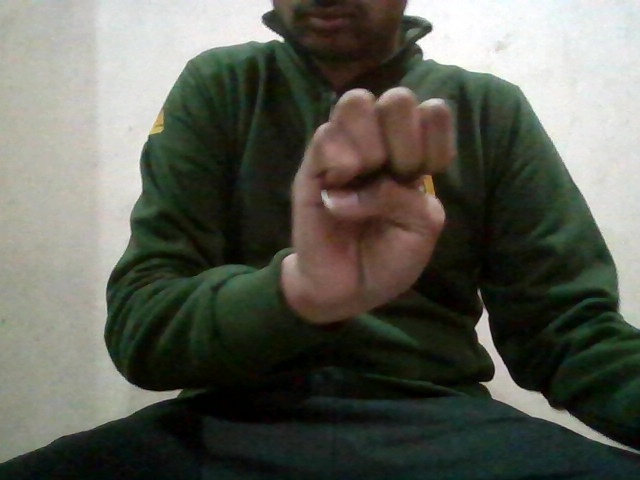E: (286, 82, 447, 306)
